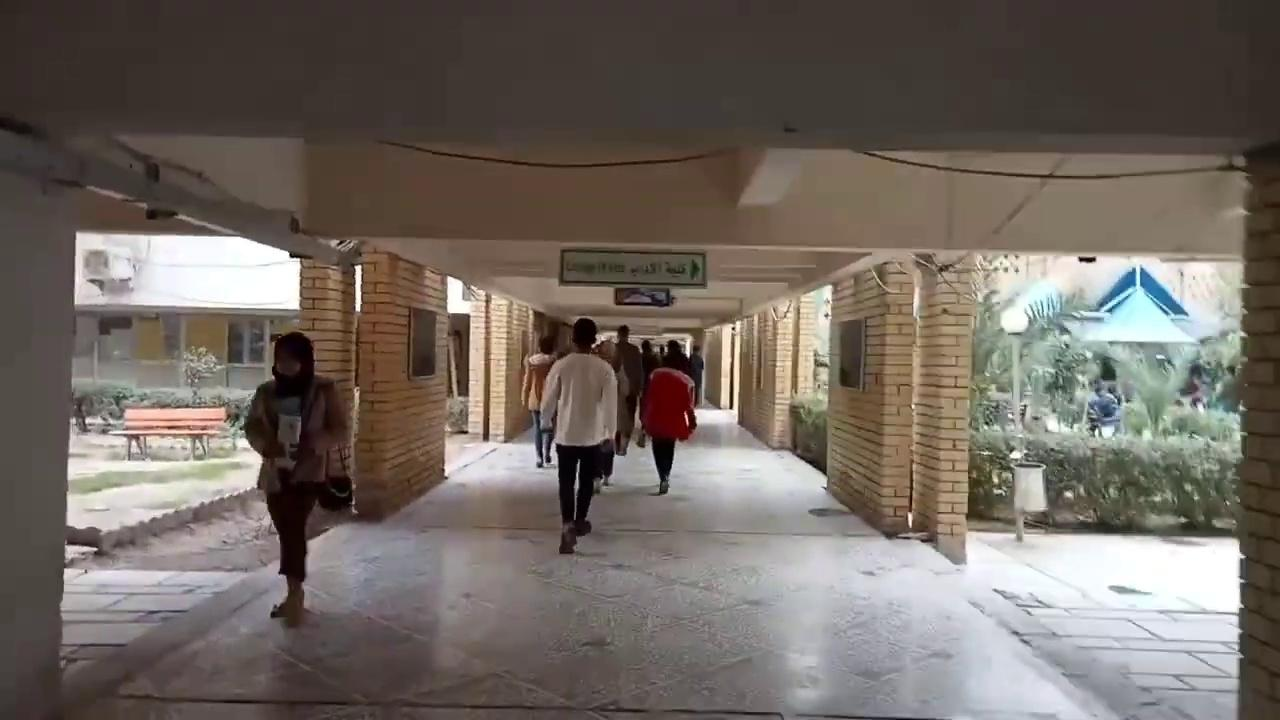person: (243, 331, 350, 624), (537, 317, 618, 554), (521, 334, 559, 468), (1086, 376, 1121, 437), (1182, 363, 1208, 412)
tree: (968, 281, 1093, 509), (1030, 333, 1090, 429), (1125, 350, 1180, 436), (178, 343, 221, 403), (811, 347, 828, 391)
